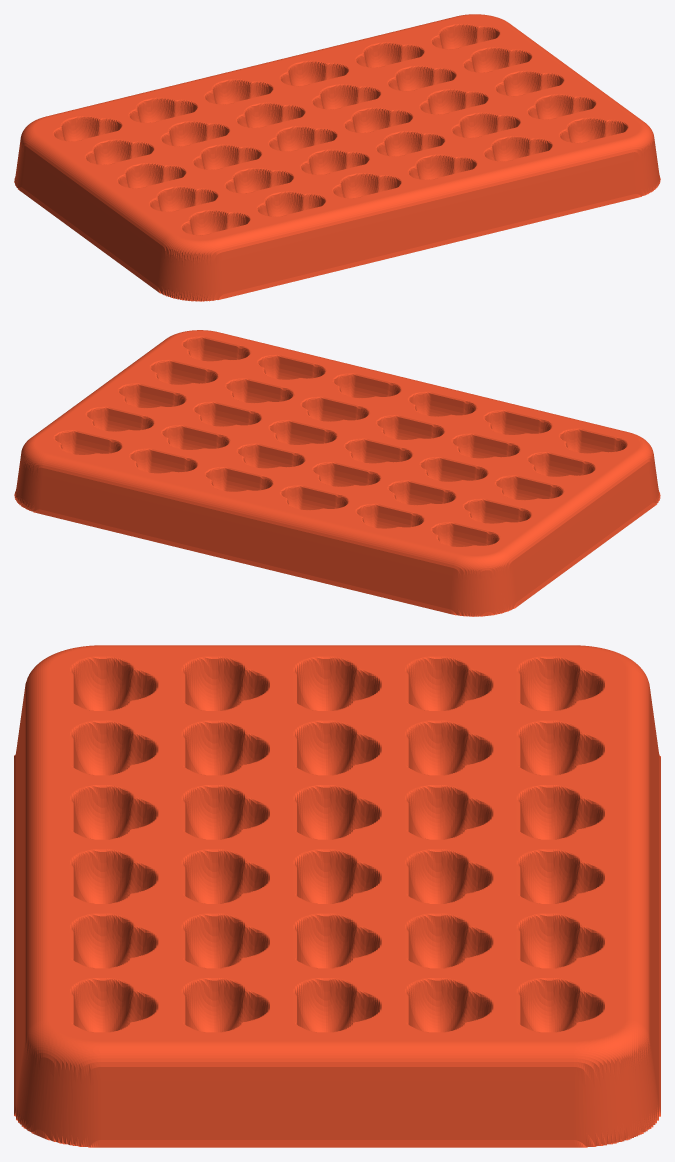
Rendered from mold.glb.
3 views of the same model, one above another, from view 1: azimuth 30°, elevation 25°; view 2: azimuth 150°, elevation 25°; view 3: azimuth 270°, elevation 25° (orthographic). The views are drawn at different scales.
Parts seen in each view (by area): view 1: geometry_0; view 2: geometry_0; view 3: geometry_0.
Boxes of the visible parts, <box> form: geometry_0: <box>14,14,660,301</box>; geometry_0: <box>14,330,660,616</box>; geometry_0: <box>14,645,660,1147</box>.
Size of the model in its own units: 0.104 by 0.0105 by 0.0672.
